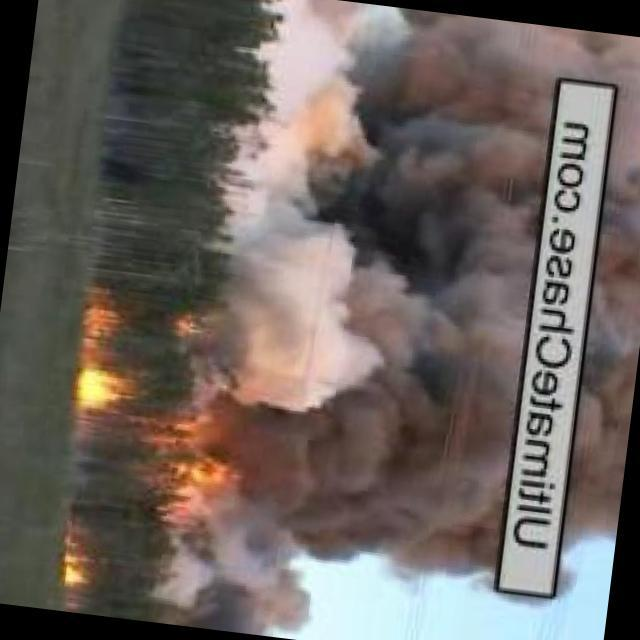Fire: (171, 438, 243, 503), (74, 359, 137, 411), (79, 291, 129, 336), (62, 548, 85, 590)
